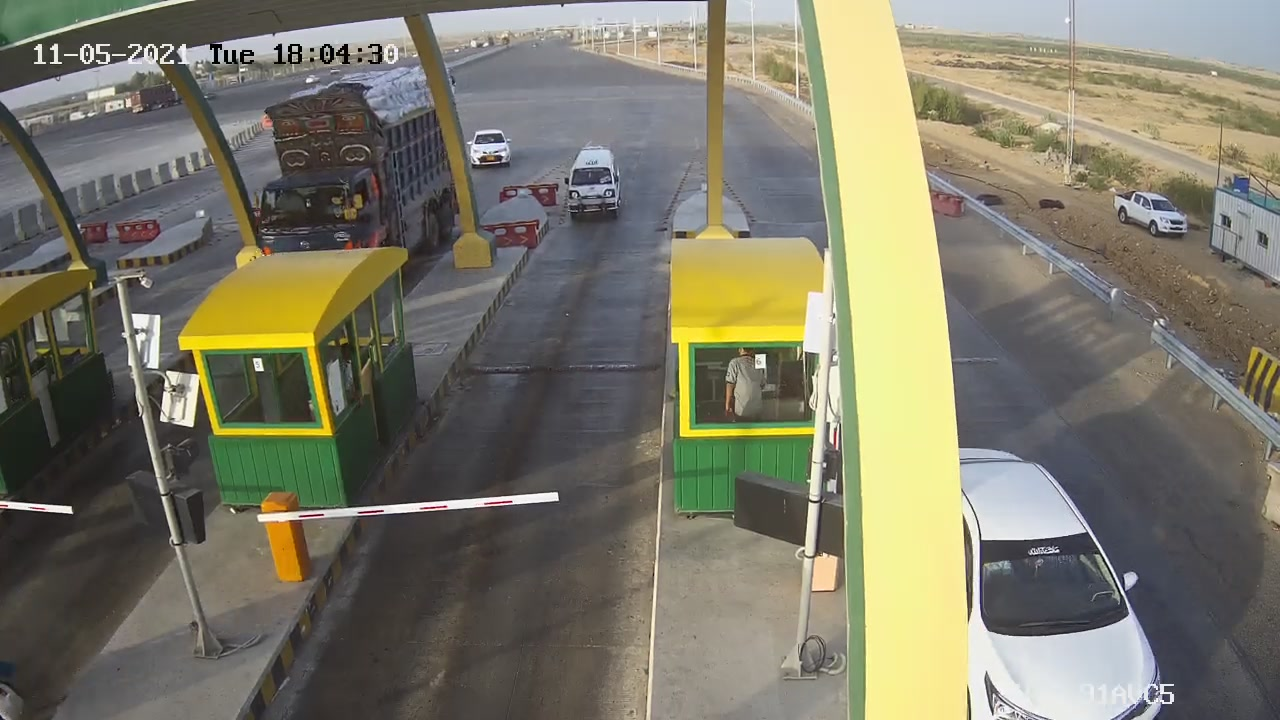F1: (555, 139, 631, 230)
